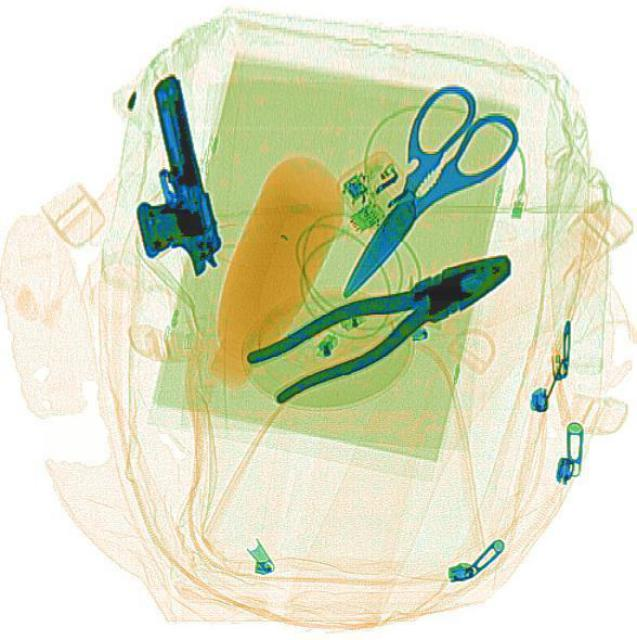Gun: (99, 72, 227, 284)
Pliers: (238, 236, 527, 408)
Scissors: (295, 73, 530, 324)
